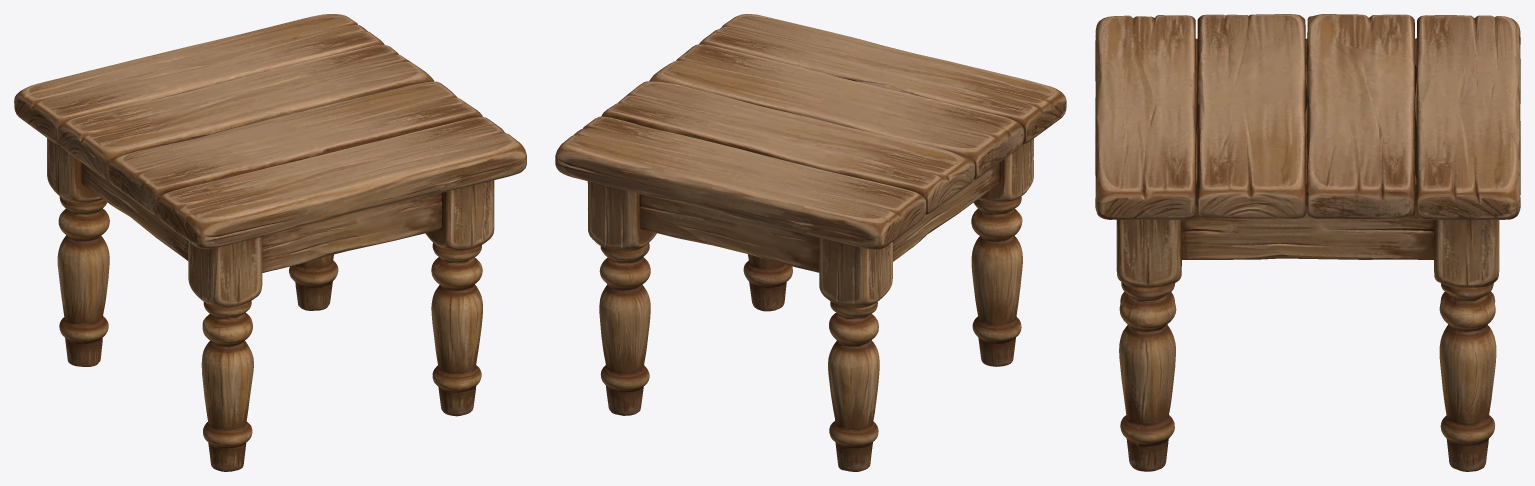
The model's file is table.glb.
3 views of the same model, side by side, from view 1: azimuth 30°, elevation 25°; view 2: azimuth 150°, elevation 25°; view 3: azimuth 270°, elevation 25° (orthographic). The views are drawn at different scales.
Parts seen in each view (by area): view 1: Mesh_0; view 2: Mesh_0; view 3: Mesh_0.
Part boxes in pixels (x1,y1,x2,y2): Mesh_0: [14, 14, 526, 471]; Mesh_0: [555, 14, 1066, 471]; Mesh_0: [1095, 14, 1520, 471].
Size of the model in its own units: 1.9 by 1.49 by 1.9.
1 material, 1 textured.
